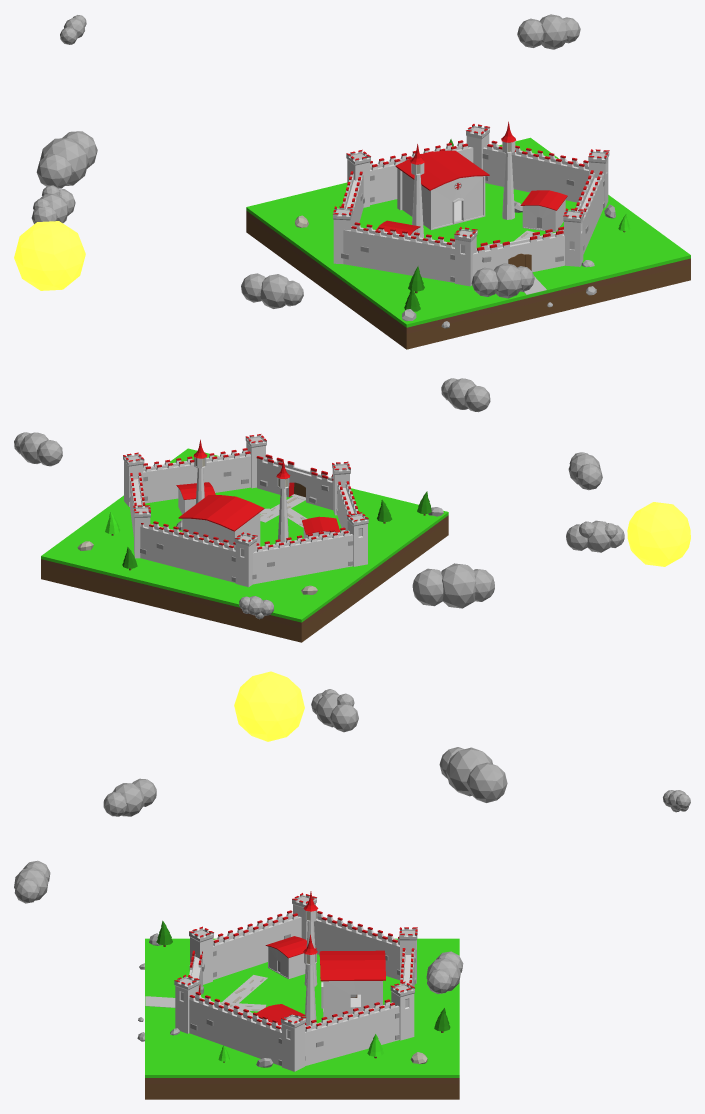
The model's file is astle.fbx.
3 views of the same model, one above another, from view 1: azimuth 30°, elevation 25°; view 2: azimuth 150°, elevation 25°; view 3: azimuth 270°, elevation 25° (orthographic). The views are drawn at different scales.
Parts seen in each view (by area): view 1: Cube, Cube.009, Cube.006, Icosphere.004, Cube.003, Icosphere.001, Cube.007, Cube.004, Icosphere.005, Icosphere.006, Icosphere.003, Cube.008 (+12 smaller); view 2: Cube, Cube.005, Cube.004, Cube.001, Icosphere.004, Cube.009, Icosphere.001, Cube.007, Icosphere, Icosphere.003, Icosphere.005, pilar.003 (+13 smaller); view 3: Cube, Cube.001, Cube.003, Cube.009, Icosphere.004, Cube.006, Icosphere.001, Cube.005, Icosphere.006, Icosphere, Cube.002, pilar.001 (+6 smaller).
Boxes of the visible parts, x1=… form: Cube: x1=246, y1=137, x2=690, y2=349; Cube.009: x1=395, y1=150, x2=489, y2=229; Cube.006: x1=341, y1=222, x2=454, y2=282; Icosphere.004: x1=14, y1=221, x2=85, y2=290; Cube.003: x1=482, y1=140, x2=588, y2=202; Icosphere.001: x1=36, y1=131, x2=97, y2=188; Cube.007: x1=472, y1=226, x2=564, y2=277; Cube.004: x1=370, y1=140, x2=473, y2=204; Icosphere.005: x1=517, y1=14, x2=580, y2=49; Icosphere.006: x1=241, y1=273, x2=303, y2=308; Icosphere.003: x1=471, y1=263, x2=534, y2=298; Cube.008: x1=520, y1=190, x2=567, y2=232; Cube: x1=41, y1=448, x2=448, y2=642; Cube.005: x1=252, y1=527, x2=353, y2=584; Cube.004: x1=140, y1=521, x2=235, y2=582; Cube.001: x1=143, y1=448, x2=250, y2=503; Icosphere.004: x1=627, y1=502, x2=690, y2=566; Cube.009: x1=178, y1=495, x2=264, y2=546; Icosphere.001: x1=412, y1=563, x2=494, y2=608; Cube.007: x1=256, y1=454, x2=333, y2=509; Icosphere: x1=566, y1=520, x2=624, y2=552; Icosphere.003: x1=441, y1=378, x2=490, y2=412; Icosphere.005: x1=14, y1=432, x2=62, y2=466; pilar.003: x1=234, y1=532, x2=257, y2=587; Cube: x1=145, y1=938, x2=459, y2=1099; Cube.001: x1=189, y1=992, x2=281, y2=1066; Cube.003: x1=305, y1=999, x2=399, y2=1065; Cube.009: x1=319, y1=950, x2=385, y2=1019; Icosphere.004: x1=234, y1=671, x2=304, y2=741; Cube.006: x1=213, y1=910, x2=301, y2=979; Icosphere.001: x1=439, y1=747, x2=507, y2=802; Cube.005: x1=307, y1=911, x2=399, y2=980; Icosphere.006: x1=103, y1=778, x2=156, y2=816; Icosphere: x1=311, y1=689, x2=358, y2=732; Cube.002: x1=265, y1=936, x2=316, y2=979; pilar.001: x1=281, y1=1012, x2=306, y2=1071.
Size of the model in its own units: 738 by 165 by 683.
